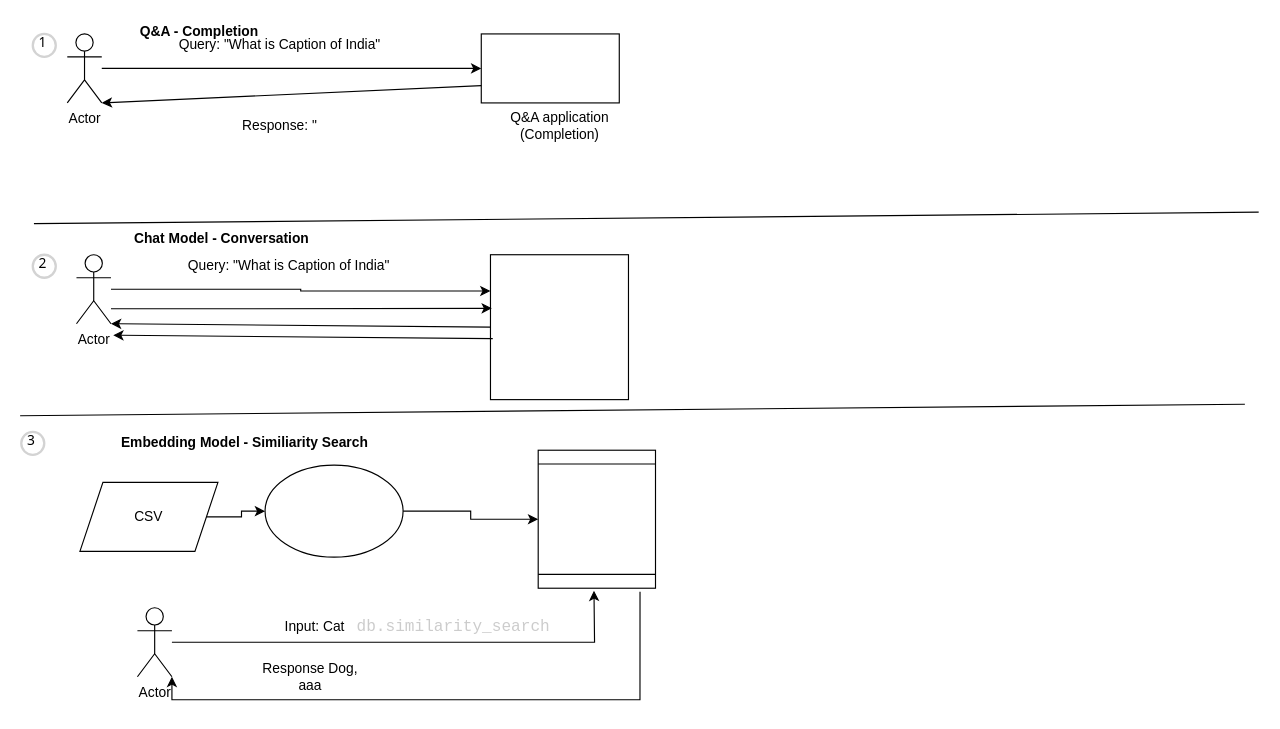
Some shapes in this 1280 by 729 pixel diagram are drawn without their labels. Here are the shapes that lost their labels. From the top down, the box of each, then its label:
(480, 33, 619, 103): LLM (Open-AI)
(489, 254, 628, 400): Chat Model (Open-AI)
(264, 464, 403, 557): Emmbedding Model (openaiEmbedding)
(537, 449, 656, 588): Vector DB
